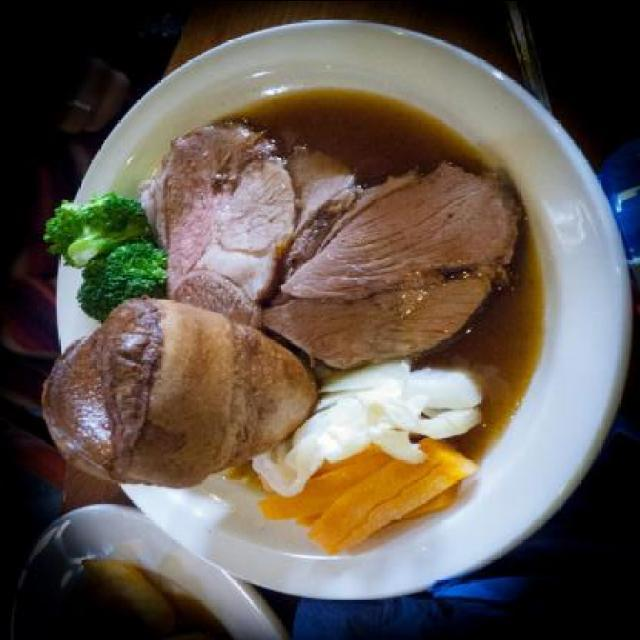Broccoli: (40, 188, 152, 270), (73, 240, 169, 324)
